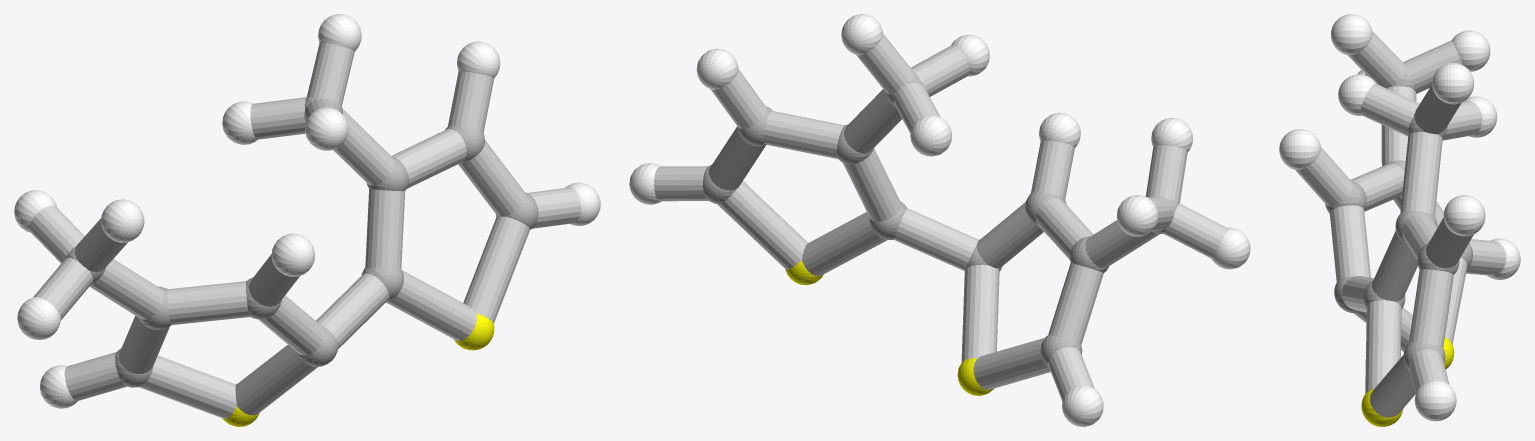
The model's file is Methylthiophene_Phi_50_Theta_140_Methylthiophene.glb.
3 views of the same model, side by side, from view 1: azimuth 30°, elevation 25°; view 2: azimuth 150°, elevation 25°; view 3: azimuth 270°, elevation 25° (orthographic). The views are drawn at different scales.
Visible parts, largest first — view 1: grp7965, grp3621, grp1, grp7241; view 2: grp7965, grp3621, grp1, grp7241; view 3: grp7965, grp3621, grp1, grp7241.
Boxes of the visible parts, x1,y1,x2,y2 form: grp7965: [29, 42, 581, 418]; grp3621: [14, 14, 600, 408]; grp1: [65, 97, 538, 387]; grp7241: [222, 313, 494, 426]; grp7965: [653, 33, 1227, 401]; grp3621: [629, 14, 1250, 426]; grp1: [703, 72, 1178, 367]; grp7241: [785, 260, 994, 395]; grp7965: [1295, 31, 1506, 417]; grp3621: [1279, 14, 1520, 421]; grp1: [1325, 70, 1472, 371]; grp7241: [1361, 337, 1454, 426].
Size of the model in its own units: 9.66 by 5.67 by 3.46.
